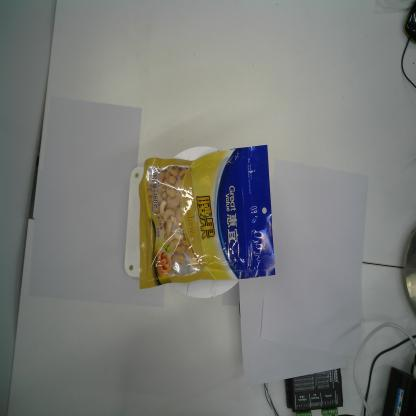Dried Fruit: (139, 145, 276, 290)
